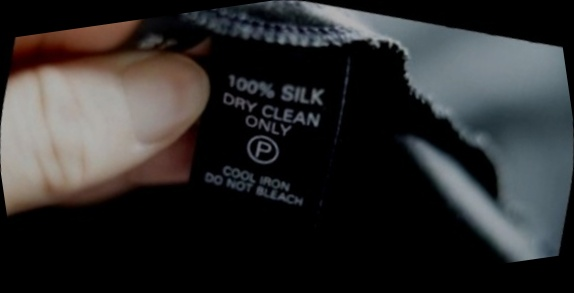dry_clean_any_solvent_except_trichloroethylene: (236, 122, 293, 176)
